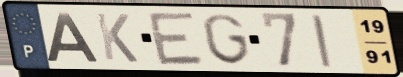7: (258, 10, 302, 70)
A: (44, 10, 101, 64)
E: (145, 10, 208, 67)
G: (200, 12, 253, 67)
I: (308, 13, 335, 70)
K: (93, 11, 141, 65)
